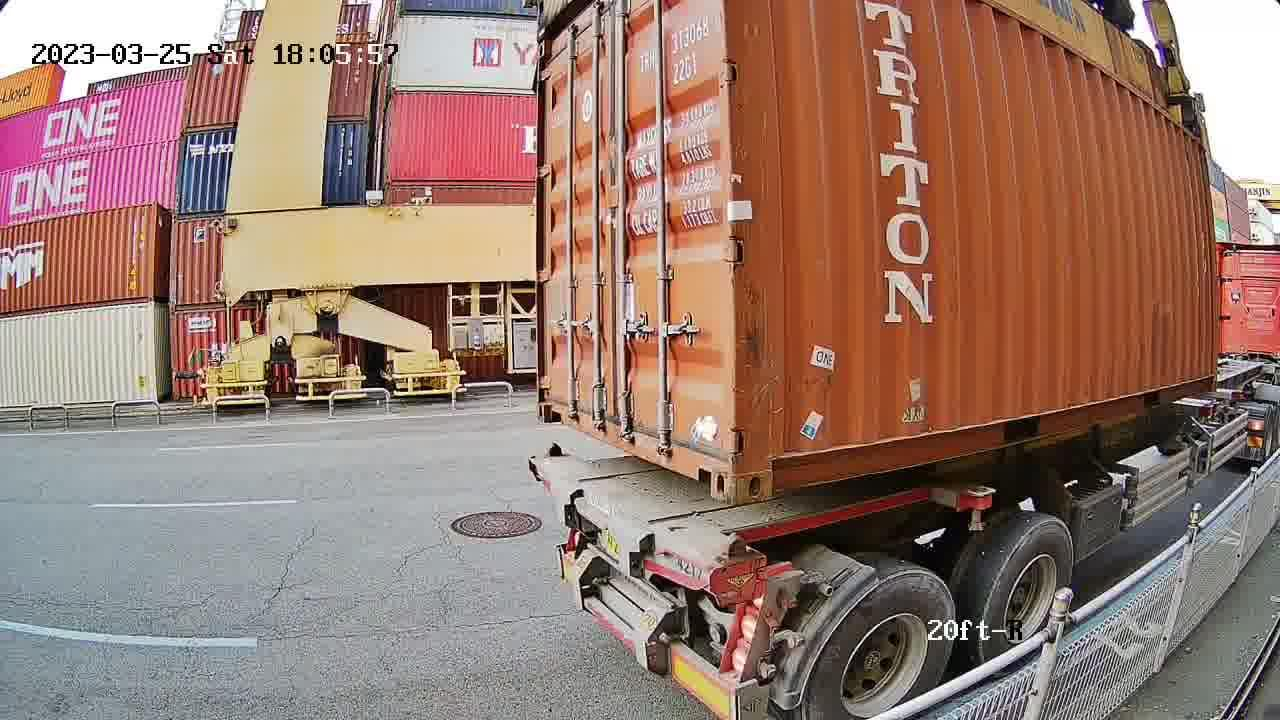Chassis: (531, 454, 762, 598)
Cone: (720, 533, 757, 604)
Hole_L: (730, 422, 799, 503), (536, 374, 575, 427)
Hole_R: (682, 413, 730, 505)
Tire: (806, 573, 957, 719), (983, 522, 1075, 675)
